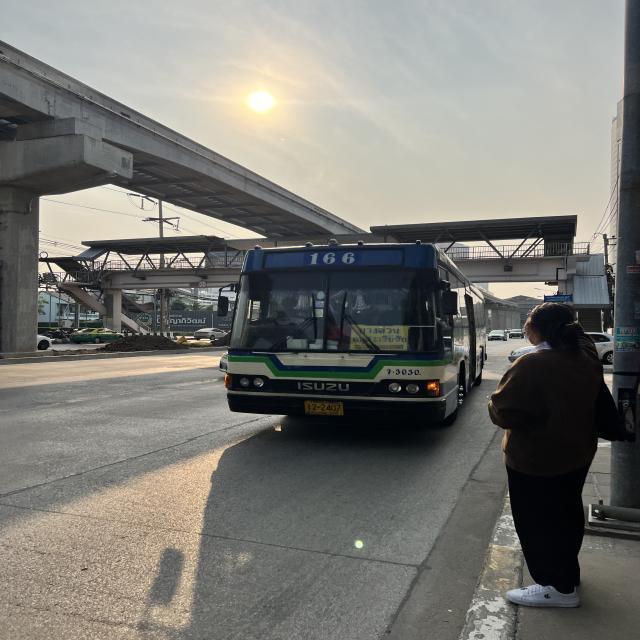BMTA-bus: (223, 244, 483, 425)
Bus-Line-Number: (306, 250, 361, 267)
Destination-Sign-Normal-Expressway: (350, 326, 408, 350)
